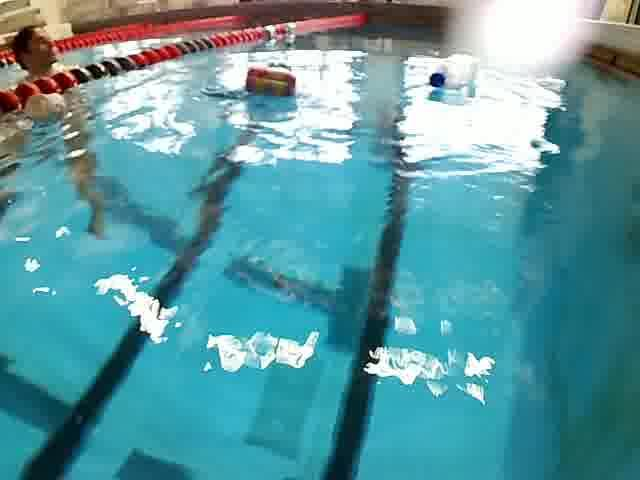Bottle: (430, 41, 483, 103), (27, 85, 67, 128)
Can: (233, 61, 299, 114)
